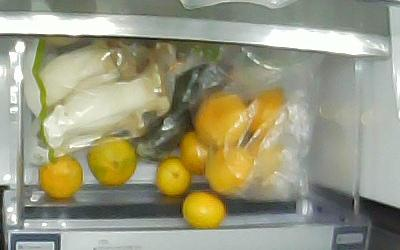tangerine: (85, 134, 137, 185), (37, 152, 83, 198), (178, 129, 218, 175), (181, 189, 226, 227), (154, 156, 191, 196)
tangerine_vinyl: (193, 89, 248, 147), (203, 142, 255, 195), (243, 85, 288, 140), (249, 142, 291, 186)
